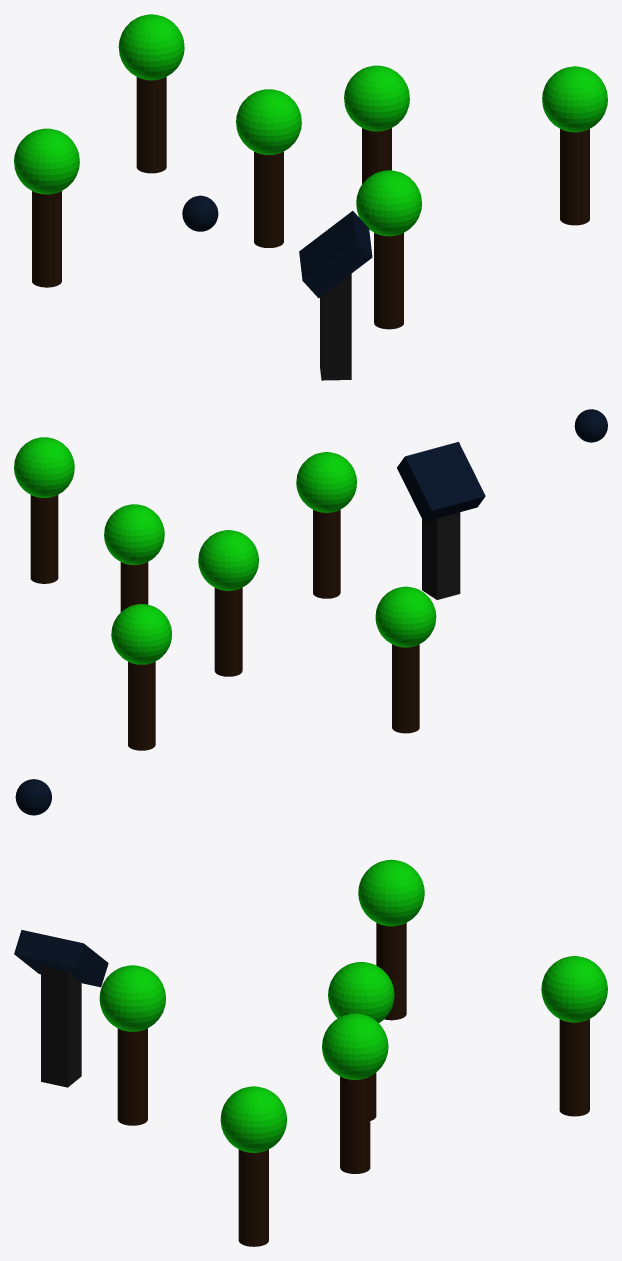
Rendered from exercise20004.obj.
3 renders of one model, top to bottom at view 1: azimuth 30°, elevation 25°; view 2: azimuth 150°, elevation 25°; view 3: azimuth 270°, elevation 25°, orthographic. The views are drawn at different scales.
Parts seen in each view (by area): view 1: Cube.001, Sphere, Sphere.006, Sphere.003, Sphere.005, Sphere.002, Sphere.004, Cube, Cylinder.005, Cylinder.006, Cylinder.004, Cylinder.003 (+4 smaller); view 2: Cube.001, Cube, Sphere.006, Sphere.003, Sphere.002, Sphere, Sphere.005, Sphere.004, Cylinder.002, Cylinder.003, Cylinder.005, Cylinder.006 (+4 smaller); view 3: Cube, Sphere.005, Sphere, Sphere.003, Sphere.006, Sphere.004, Sphere.002, Cube.001, Cylinder.005, Cylinder.004, Cylinder.003, Cylinder (+3 smaller).
Boxes of the visible parts, x1,y1,x2,y2 form: Cube.001: (299, 211, 372, 298); Sphere: (344, 65, 409, 131); Sphere.006: (14, 128, 79, 194); Sphere.003: (542, 66, 607, 132); Sphere.005: (118, 14, 184, 80); Sphere.002: (236, 89, 301, 154); Sphere.004: (356, 170, 421, 236); Cube: (320, 274, 351, 380); Cylinder.005: (136, 77, 166, 173); Cylinder.006: (32, 191, 61, 287); Cylinder.004: (374, 232, 403, 329); Cylinder.003: (560, 129, 589, 225); Cube.001: (397, 442, 485, 521); Cube: (422, 512, 460, 599); Sphere.006: (375, 586, 436, 647); Sphere.003: (14, 437, 74, 497); Sphere.002: (198, 530, 258, 590); Sphere: (104, 504, 164, 564); Sphere.005: (111, 604, 171, 664); Sphere.004: (296, 452, 356, 512); Cylinder.002: (214, 587, 242, 676); Cylinder.003: (30, 495, 58, 583); Cylinder.005: (128, 661, 155, 750); Cylinder.006: (392, 644, 419, 733); Cube: (41, 965, 81, 1087); Sphere.005: (541, 956, 607, 1022); Sphere: (322, 1013, 388, 1079); Sphere.003: (220, 1086, 286, 1152); Sphere.006: (358, 859, 424, 926); Sphere.004: (99, 965, 165, 1031); Sphere.002: (328, 962, 394, 1022); Cube.001: (14, 930, 108, 987); Cylinder.005: (559, 1019, 589, 1116); Cylinder.004: (117, 1028, 147, 1125); Cylinder.003: (238, 1149, 268, 1246); Cylinder: (340, 1076, 370, 1173).
Size of what is drawn, in the model's own units: 40.53 by 16.34 by 39.13.
